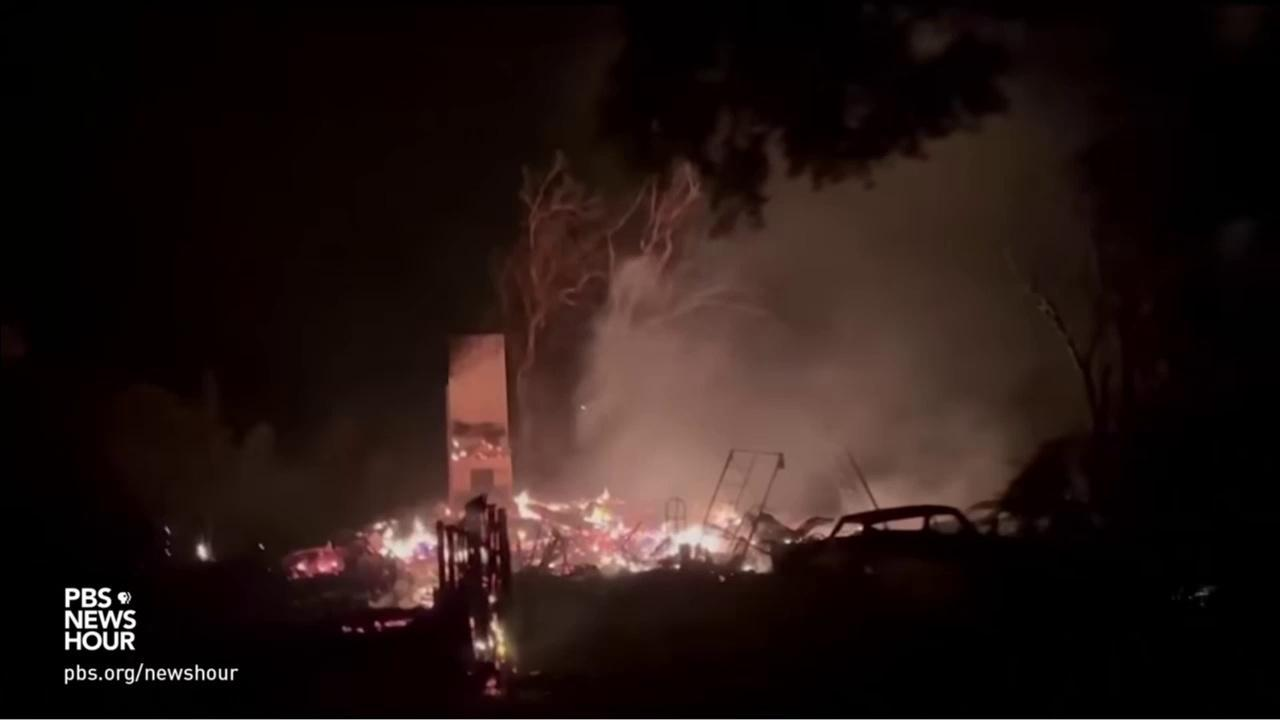fire: (513, 490, 774, 577), (370, 515, 442, 565), (285, 544, 346, 584), (470, 613, 509, 670), (193, 544, 215, 566), (482, 677, 502, 697), (384, 619, 408, 628), (373, 619, 381, 632), (488, 594, 497, 605), (340, 625, 351, 633), (453, 437, 459, 450), (452, 453, 460, 462), (460, 450, 468, 459), (445, 506, 451, 518), (355, 627, 365, 634)
smoke: (576, 28, 1123, 542)
